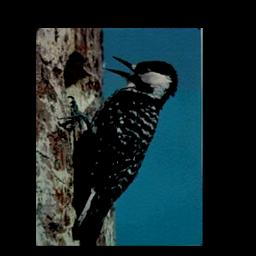Woodpecker: (57, 52, 184, 244)
